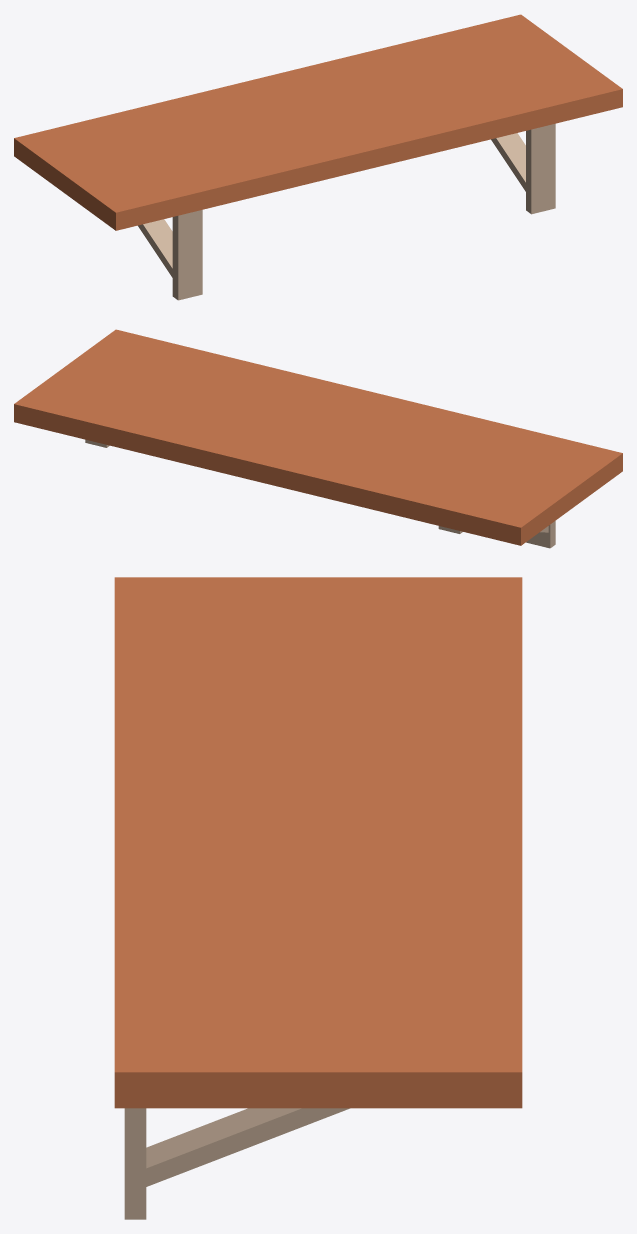
Rendered from wall_shelf.glb.
The picture shows the model from 3 angles, top to bottom: view 1: azimuth 30°, elevation 25°; view 2: azimuth 150°, elevation 25°; view 3: azimuth 270°, elevation 25°; orthographic projection. The views are drawn at different scales.
Parts seen in each view (by area): view 1: wall_shelf; view 2: wall_shelf; view 3: wall_shelf.
Boxes of the visible parts, <box> form: wall_shelf: <box>14,14,622,300</box>; wall_shelf: <box>14,329,622,548</box>; wall_shelf: <box>114,577,522,1219</box>.
Size of the model in its own units: 1.26 by 0.25 by 0.4384.
